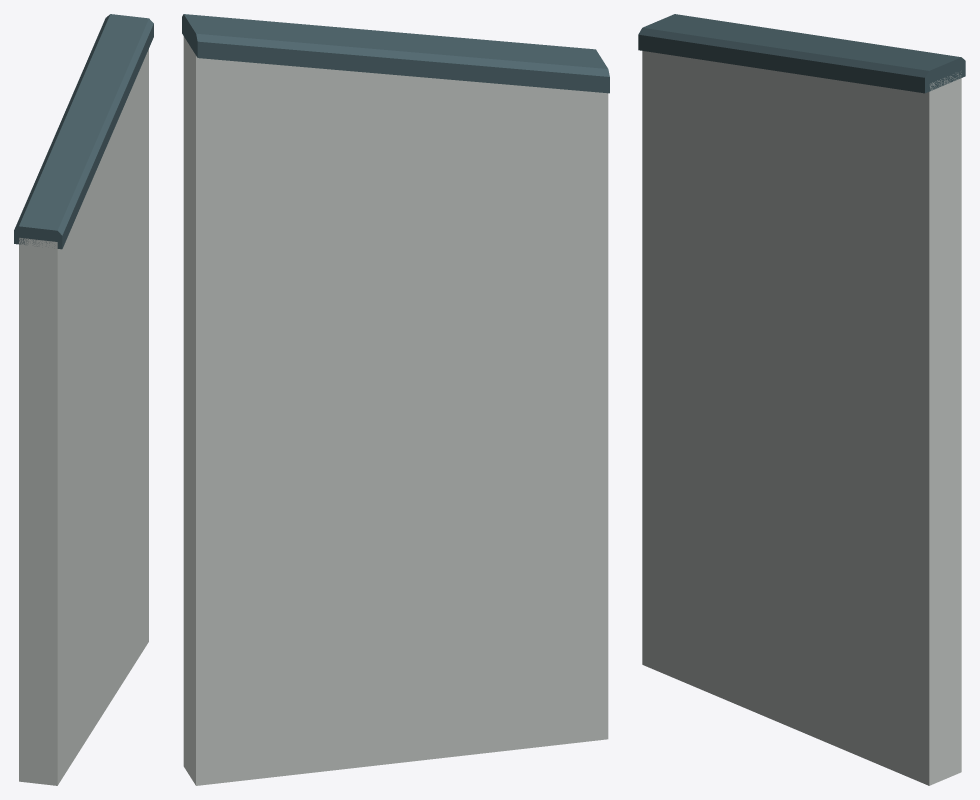
Rendered from halfwall_45_port_rise_4.glb.
3 renders of one model, left to right at view 1: azimuth 30°, elevation 25°; view 2: azimuth 150°, elevation 25°; view 3: azimuth 270°, elevation 25°, orthographic. The views are drawn at different scales.
Parts seen in each view (by area): view 1: Seamless solid halfwall.007, Seamless top cap.007; view 2: Seamless solid halfwall.007, Seamless top cap.007; view 3: Seamless solid halfwall.007, Seamless top cap.007.
Part boxes in pixels (x1,y1,x2,y2): Seamless solid halfwall.007: (19, 49, 148, 785); Seamless top cap.007: (14, 14, 153, 249); Seamless solid halfwall.007: (183, 36, 608, 785); Seamless top cap.007: (182, 14, 609, 93); Seamless solid halfwall.007: (642, 51, 961, 785); Seamless top cap.007: (638, 14, 965, 93).
Bounding box in the file's own units: 0.5707 × 1.38 × 0.5707.
